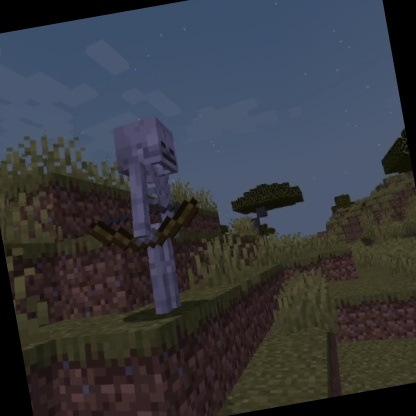skeleton: (66, 104, 222, 329)
